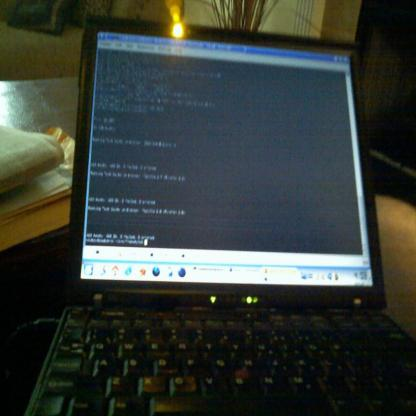board: (22, 14, 415, 416)
